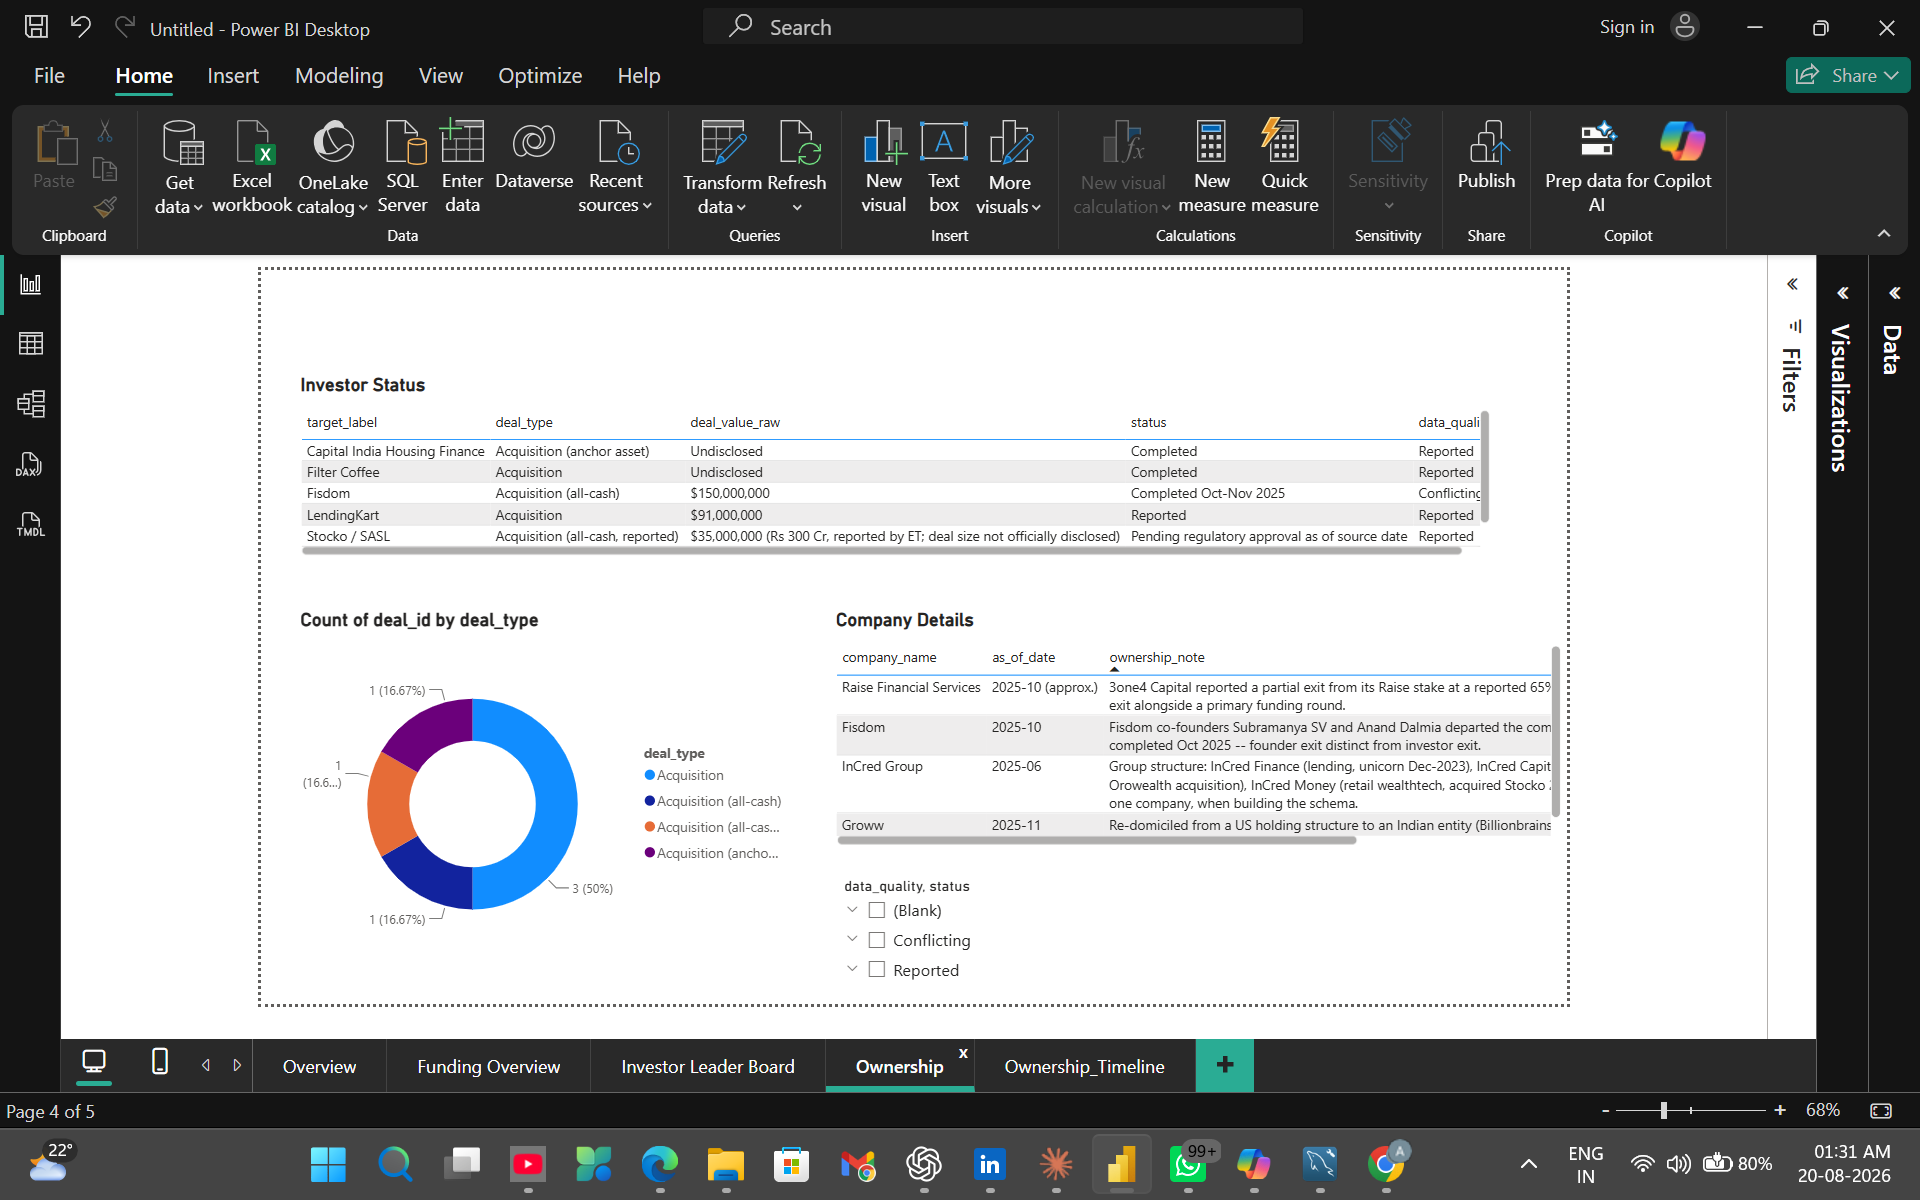

The dashboard page shown, as its layout file describes it:
{"tool":"powerbi","page":{"name":"Ownership","canvas":[1280,720],"ordinal":3},"visuals":[{"type":"tableEx","title":"Investor Status","fields":{"Values":["private_markets_intel deal_events.target_label","private_markets_intel deal_events.deal_type","private_markets_intel deal_events.deal_value_raw","private_markets_intel deal_events.status","private_markets_intel deal_events.data_quality"]},"box":[34,102,1175.4,183.3],"z":0},{"type":"donutChart","fields":{"Y":["CountNonNull(private_markets_intel deal_events.deal_id)"],"Category":["private_markets_intel deal_events.deal_type"]},"box":[34,332.6,491.3,351.5],"z":1000},{"type":"tableEx","title":"Company Details","fields":{"Values":["private_markets_intel ownership_notes.company_name","private_markets_intel ownership_notes.as_of_date","private_markets_intel ownership_notes.ownership_note"]},"box":[559.4,332.6,720,236.2],"z":2000},{"type":"slicer","fields":{"Values":["private_markets_intel deal_events.data_quality","private_markets_intel deal_events.status"]},"box":[559.4,589.6,521.6,115.3],"z":2001}]}

Visuals, with their boxes on the page's 1280x720 design canvas (x1, y1, x2, y2). These are canvas units, not pixel positions in the 1920x1200 screenshot, which may show the page scaled, cropped or inside an application window:
"Investor Status" tableEx: bbox(34, 102, 1209, 285)
donutChart - CountNonNull(private_markets_intel deal_events.deal_id) x private_markets_intel deal_events.deal_type: bbox(34, 333, 525, 684)
"Company Details" tableEx: bbox(559, 333, 1279, 569)
slicer - private_markets_intel deal_events.data_quality x private_markets_intel deal_events.status: bbox(559, 590, 1081, 705)
